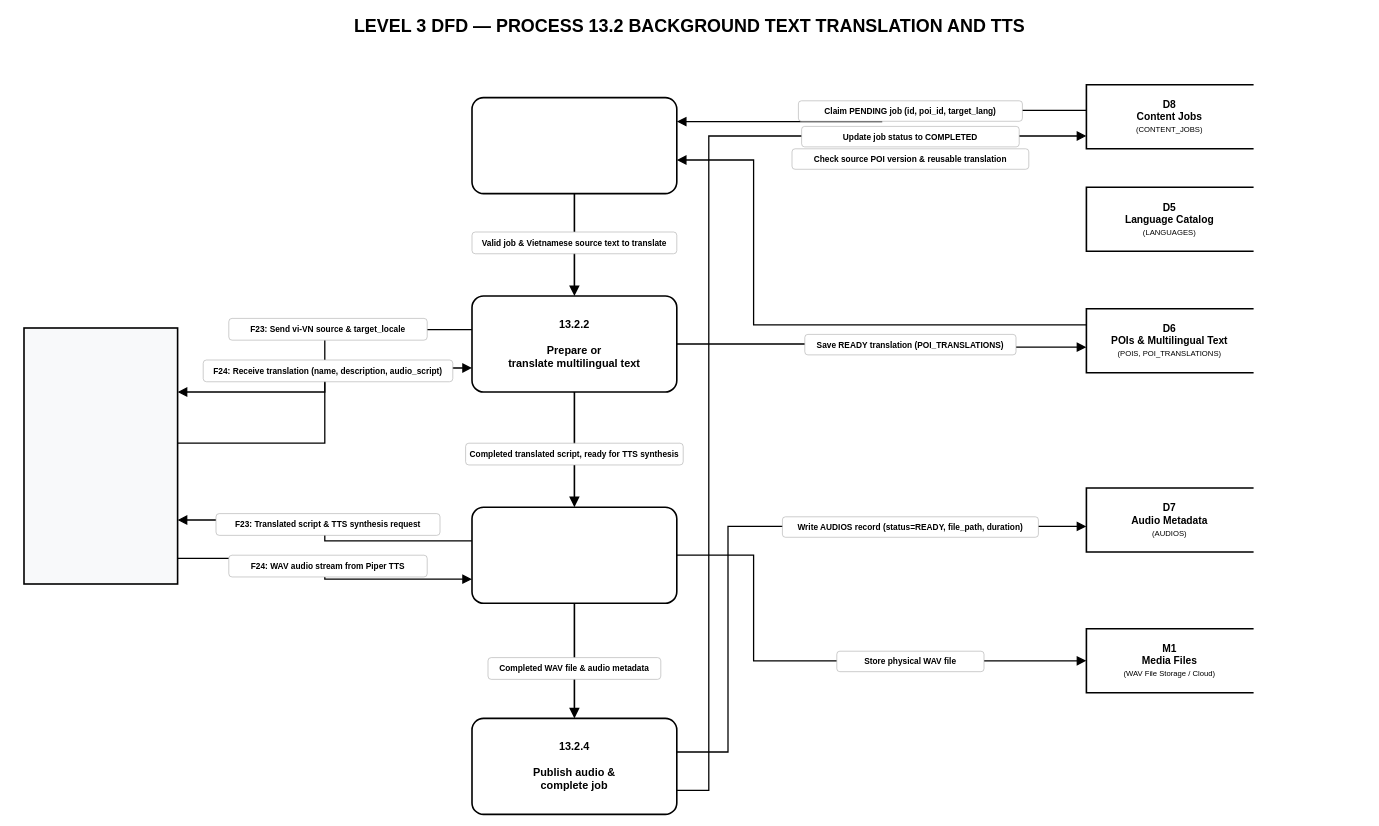
This 1379x826 diagram has some shape labels left out. The shapes that lost their labels are listed below. From the top down, each one's centre as x and y in pixels, then its label:
At pixel 574 145: "13.2.1 Claim job & check version".
At pixel 100 456: "E5 Translation & TTS Service (Google Translate / Piper TTS)".
At pixel 574 555: "13.2.3 Reuse or synthesize WAV audio".
